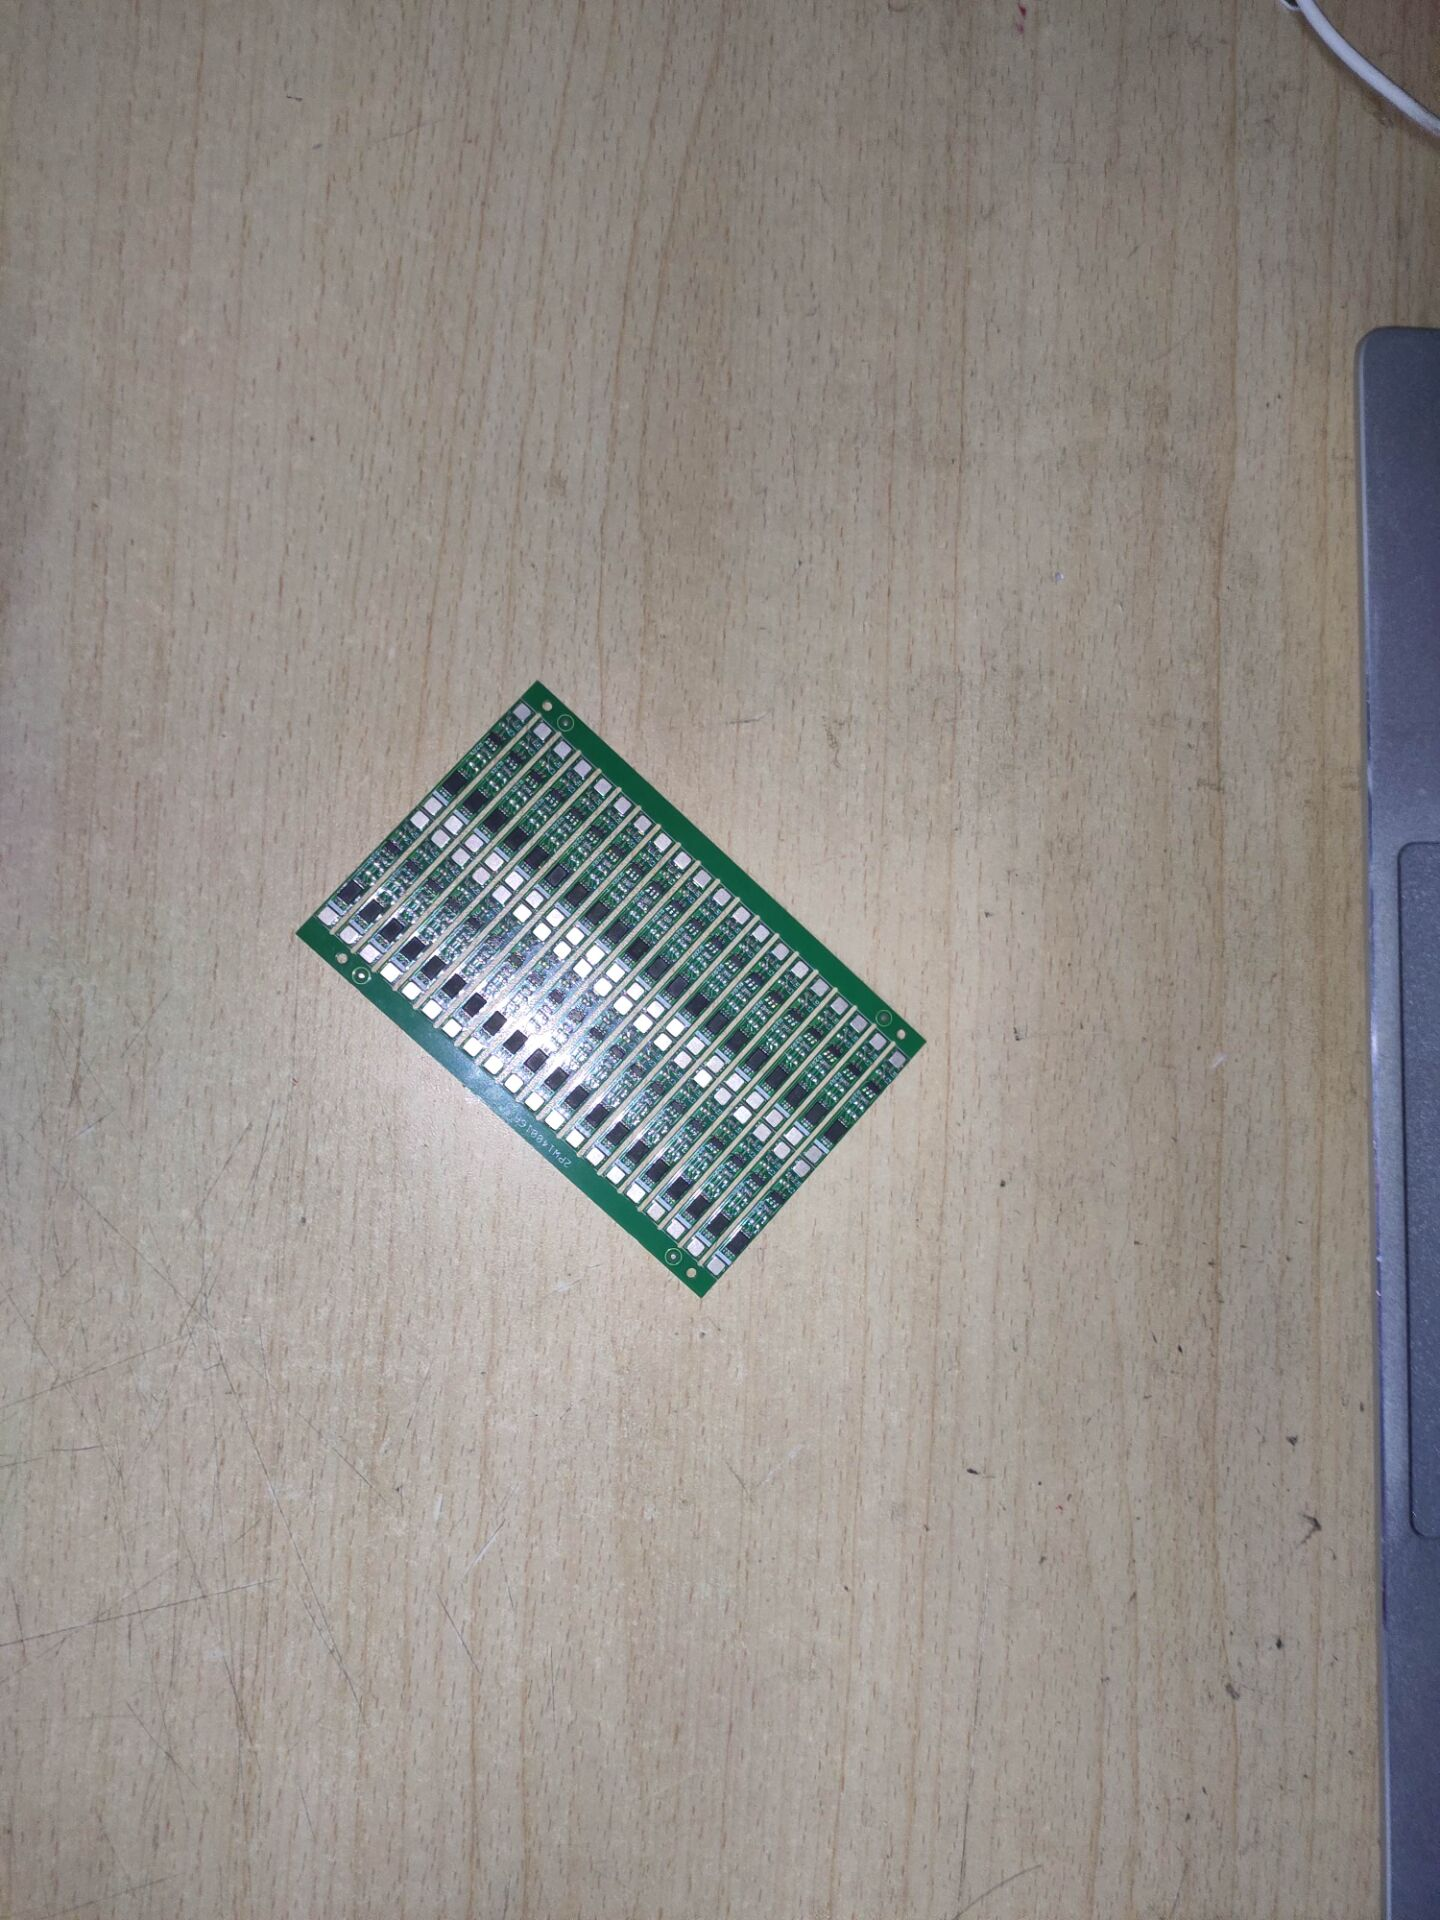point: (704, 1255, 726, 1276), (726, 1071, 745, 1094), (512, 702, 533, 723), (316, 907, 340, 925), (604, 1166, 628, 1184), (623, 1183, 648, 1202), (870, 1030, 887, 1056), (379, 963, 399, 984), (523, 1093, 545, 1112), (450, 847, 471, 868), (584, 1148, 606, 1165), (646, 1202, 666, 1221), (666, 1218, 685, 1238), (491, 885, 512, 904), (525, 891, 544, 910), (652, 832, 672, 851), (421, 1001, 441, 1019), (461, 1037, 483, 1056), (483, 1055, 504, 1074), (685, 1238, 706, 1256), (430, 830, 450, 848), (464, 834, 485, 852), (483, 854, 504, 872), (505, 870, 523, 891), (613, 997, 634, 1015), (772, 1142, 792, 1159), (706, 1055, 725, 1076), (744, 1091, 765, 1109), (731, 906, 752, 924), (772, 939, 789, 960), (831, 996, 848, 1017), (401, 982, 421, 1001), (544, 1111, 564, 1130), (565, 1130, 585, 1148), (410, 811, 429, 828), (423, 798, 443, 817), (472, 867, 491, 885), (512, 904, 531, 922), (572, 959, 592, 977), (546, 908, 565, 926), (585, 945, 603, 964), (592, 977, 611, 995), (634, 1014, 653, 1033), (652, 1033, 672, 1051), (792, 1160, 812, 1178), (625, 984, 645, 1002), (665, 1018, 685, 1036), (685, 1036, 704, 1055), (805, 1144, 823, 1164), (595, 777, 612, 796), (338, 926, 359, 943), (503, 1075, 525, 1091), (443, 817, 464, 833), (674, 850, 692, 871), (692, 869, 712, 886), (694, 1070, 713, 1088), (554, 740, 572, 758), (752, 924, 770, 942), (442, 1020, 462, 1037), (752, 1125, 772, 1142), (785, 1128, 804, 1145), (890, 1051, 906, 1070), (850, 1014, 867, 1034), (360, 947, 378, 963), (533, 924, 551, 940), (566, 928, 584, 945), (734, 1107, 752, 1124), (606, 965, 625, 981), (533, 723, 551, 740), (575, 761, 592, 778), (614, 797, 632, 813), (634, 817, 652, 833), (714, 889, 731, 907), (812, 978, 829, 997), (647, 1001, 664, 1018), (791, 961, 808, 978), (765, 1111, 784, 1127), (673, 1053, 692, 1068), (714, 1090, 732, 1104), (555, 943, 570, 959)
